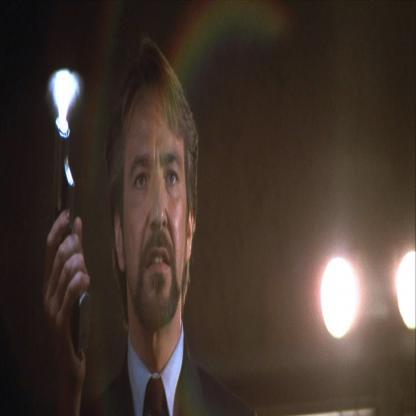gun: (44, 97, 92, 374)
